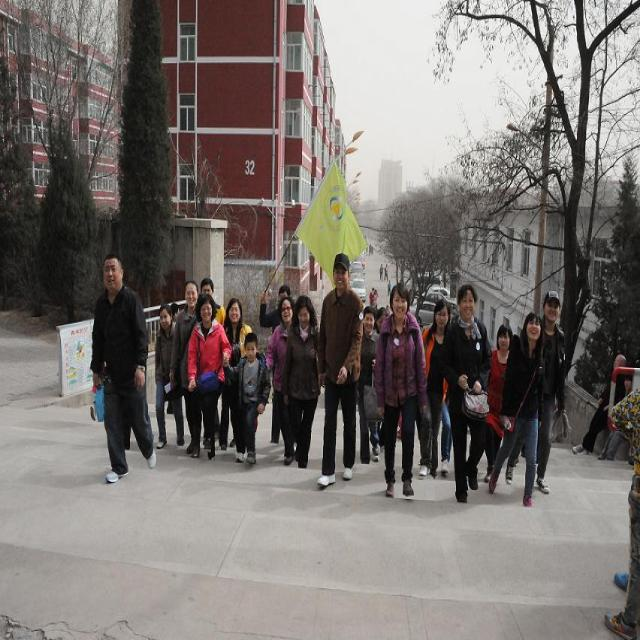non-fight: (88, 254, 156, 482), (493, 294, 565, 504), (428, 282, 494, 505), (317, 254, 364, 489), (376, 286, 426, 501), (268, 291, 323, 471), (182, 292, 228, 463), (230, 327, 266, 465)
